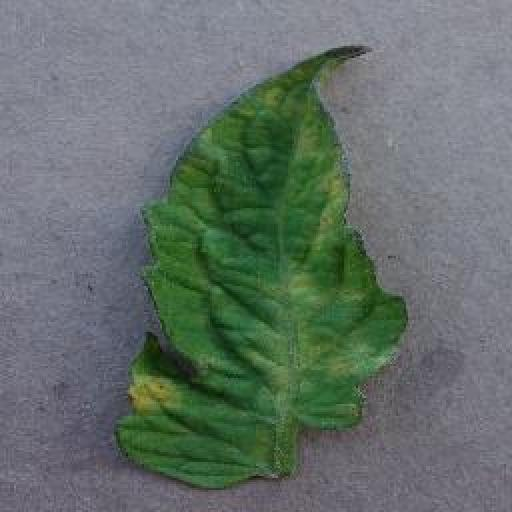disease_tomato: (118, 44, 412, 485)
